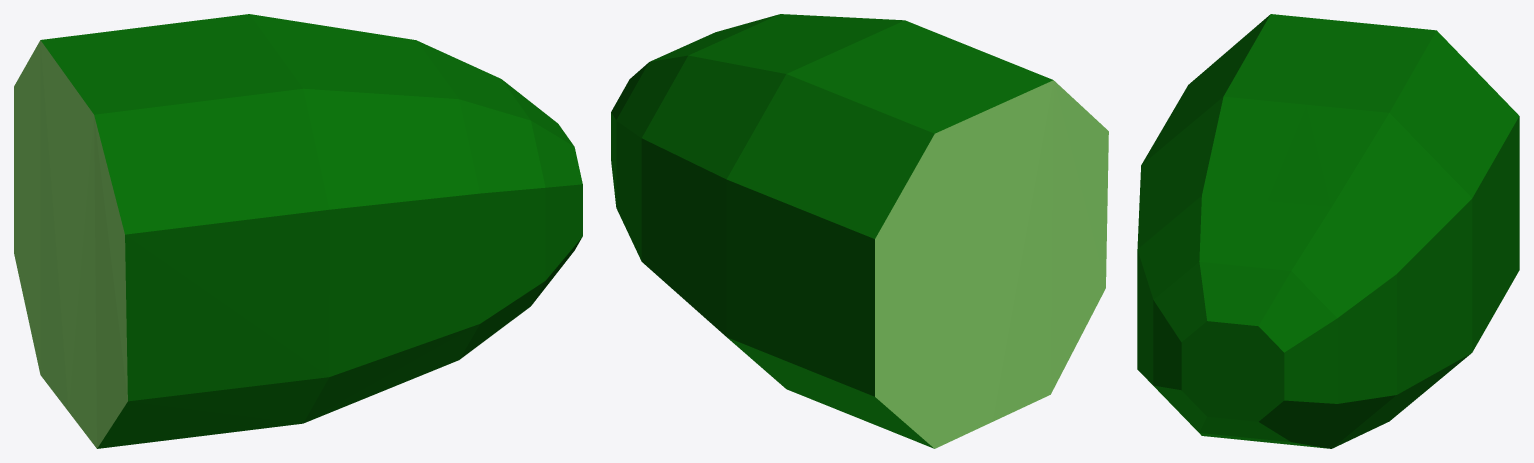
The model's file is mesh_Cucumber_Stage11.fbx.
The picture shows the model from 3 angles, left to right: view 1: azimuth 30°, elevation 25°; view 2: azimuth 150°, elevation 25°; view 3: azimuth 270°, elevation 25°; orthographic projection. The views are drawn at different scales.
Visible parts, largest first — view 1: mesh_Cucumber_Stage11; view 2: mesh_Cucumber_Stage11; view 3: mesh_Cucumber_Stage11.
Boxes of the visible parts, box(x1,y1,x2,y2) form: mesh_Cucumber_Stage11: box(14, 14, 582, 448); mesh_Cucumber_Stage11: box(611, 14, 1108, 448); mesh_Cucumber_Stage11: box(1137, 14, 1519, 448).
Size of the model in its own units: 0.0546 by 0.0367 by 0.0411.
